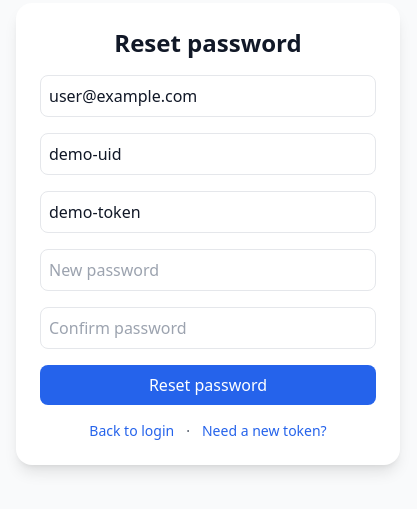
it: ResetPasswordPage › submits new password
In the password field with placeholder "New password": [208, 270] box 40,249 -> 376,291, type "NewPass123"
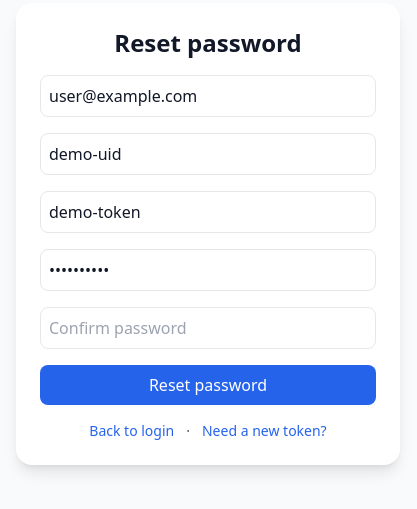
In the password field with placeholder "Confirm password": [208, 328] box 40,307 -> 376,349, type "NewPass123"
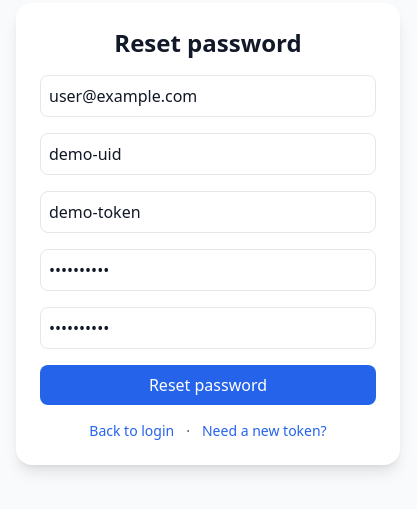
Click the button "Reset password": [208, 385] box 40,365 -> 376,405
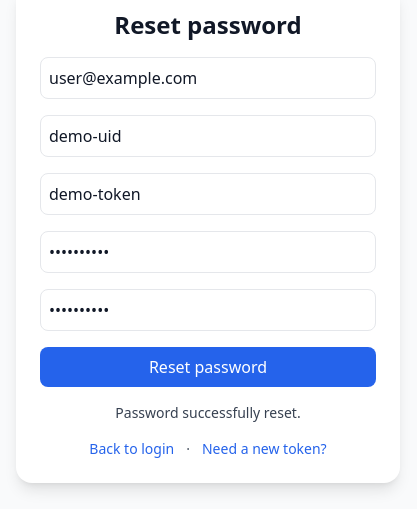
Now the text "Password successfully reset." is shown, box 115,403 -> 301,422
